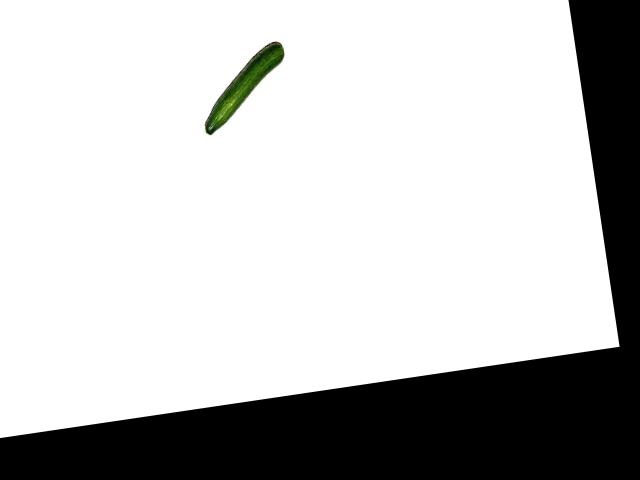cucumber: (194, 40, 294, 135)
